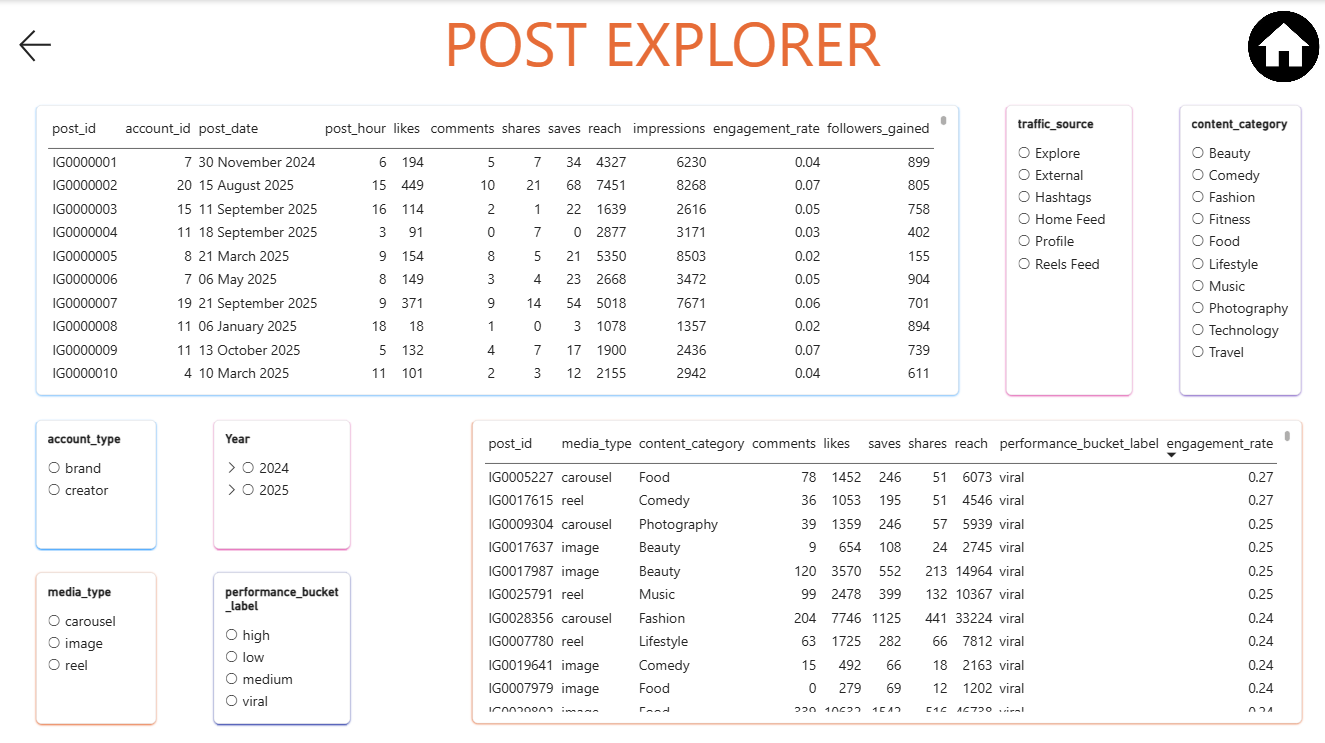

The dashboard page shown, as its layout file describes it:
{"tool":"powerbi","page":{"name":"POST EXPLORER","canvas":[1920,1080],"ordinal":5},"visuals":[{"type":"textbox","box":[208.7,0,1500.5,135.7],"z":0},{"type":"tableEx","fields":{"Values":["Instagram_Analytics.post_id","Instagram_Analytics.account_id","Instagram_Analytics.post_date","Instagram_Analytics.post_hour","Instagram_Analytics.likes","Instagram_Analytics.comments","Instagram_Analytics.shares","Instagram_Analytics.saves","Instagram_Analytics.reach","Instagram_Analytics.impressions","Instagram_Analytics.engagement_rate","Instagram_Analytics.followers_gained"]},"box":[51.9,151.5,1335.3,419.8],"z":1000},{"type":"listSlicer","fields":{"Values":["Instagram_Analytics.account_type"]},"box":[52.5,608,173.7,186.4],"z":2000},{"type":"listSlicer","fields":{"Values":["Calendar.Date.Variation.Date Hierarchy.Year","Calendar.Date.Variation.Date Hierarchy.Quarter","Calendar.Date.Variation.Date Hierarchy.Month","Calendar.Date.Variation.Date Hierarchy.Day"]},"box":[309.5,608,197.3,186.4],"z":3000},{"type":"listSlicer","fields":{"Values":["Instagram_Analytics.media_type"]},"box":[52.5,828.8,173.7,219],"z":4000},{"type":"listSlicer","fields":{"Values":["Instagram_Analytics.content_category"]},"box":[1707.5,151.5,175.3,419.8],"z":5000},{"type":"listSlicer","fields":{"Values":["Instagram_Analytics.traffic_source"]},"box":[1456.8,152,182.8,419.8],"z":6000},{"type":"listSlicer","fields":{"Values":["Instagram_Analytics.performance_bucket_label"]},"box":[309.5,828.8,197.3,219],"z":7000},{"type":"tableEx","title":"TOP 10 engagement Rate","fields":{"Values":["Instagram_Analytics.post_id","Instagram_Analytics.media_type","Instagram_Analytics.content_category","Instagram_Analytics.comments","Instagram_Analytics.likes","Instagram_Analytics.saves","Instagram_Analytics.shares","Instagram_Analytics.reach","Instagram_Analytics.performance_bucket_label","Instagram_Analytics.engagement_rate"]},"box":[683.9,608.1,1201.1,439.3],"z":8000},{"type":"actionButton","box":[2.2,26,100,82],"z":9000},{"type":"image","box":[1796.2,8.7,123.4,116.9],"z":9001}]}

Visuals, with their boxes in screenshot pixels (x1, y1, x2, y2), scaled from the page's 1920x1080 canvas onto the 1325x743 screenshot:
textbox: <box>144,0,1180,93</box>
tableEx - Instagram_Analytics.post_id x Instagram_Analytics.account_id: <box>36,104,957,393</box>
listSlicer - Instagram_Analytics.account_type: <box>36,418,156,547</box>
listSlicer - Calendar.Date.Variation.Date Hierarchy.Year x Calendar.Date.Variation.Date Hierarchy.Quarter: <box>214,418,350,547</box>
listSlicer - Instagram_Analytics.media_type: <box>36,570,156,721</box>
listSlicer - Instagram_Analytics.content_category: <box>1178,104,1299,393</box>
listSlicer - Instagram_Analytics.traffic_source: <box>1005,105,1131,393</box>
listSlicer - Instagram_Analytics.performance_bucket_label: <box>214,570,350,721</box>
"TOP 10 engagement Rate" tableEx: <box>472,418,1301,721</box>
actionButton: <box>2,18,71,74</box>
image: <box>1240,6,1324,86</box>
